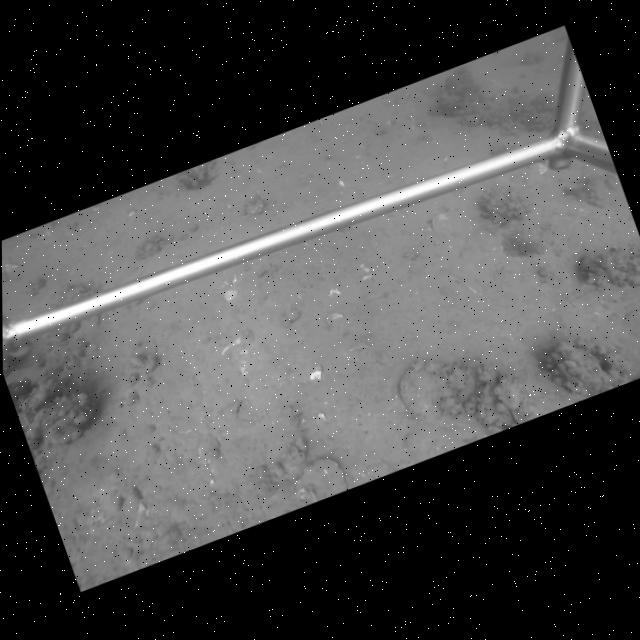Oyster-Indeterminate: (398, 358, 480, 420), (293, 455, 348, 503)
